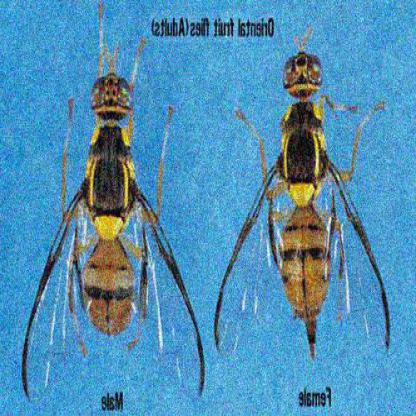fruit fly: (21, 43, 202, 403), (211, 30, 394, 364)
